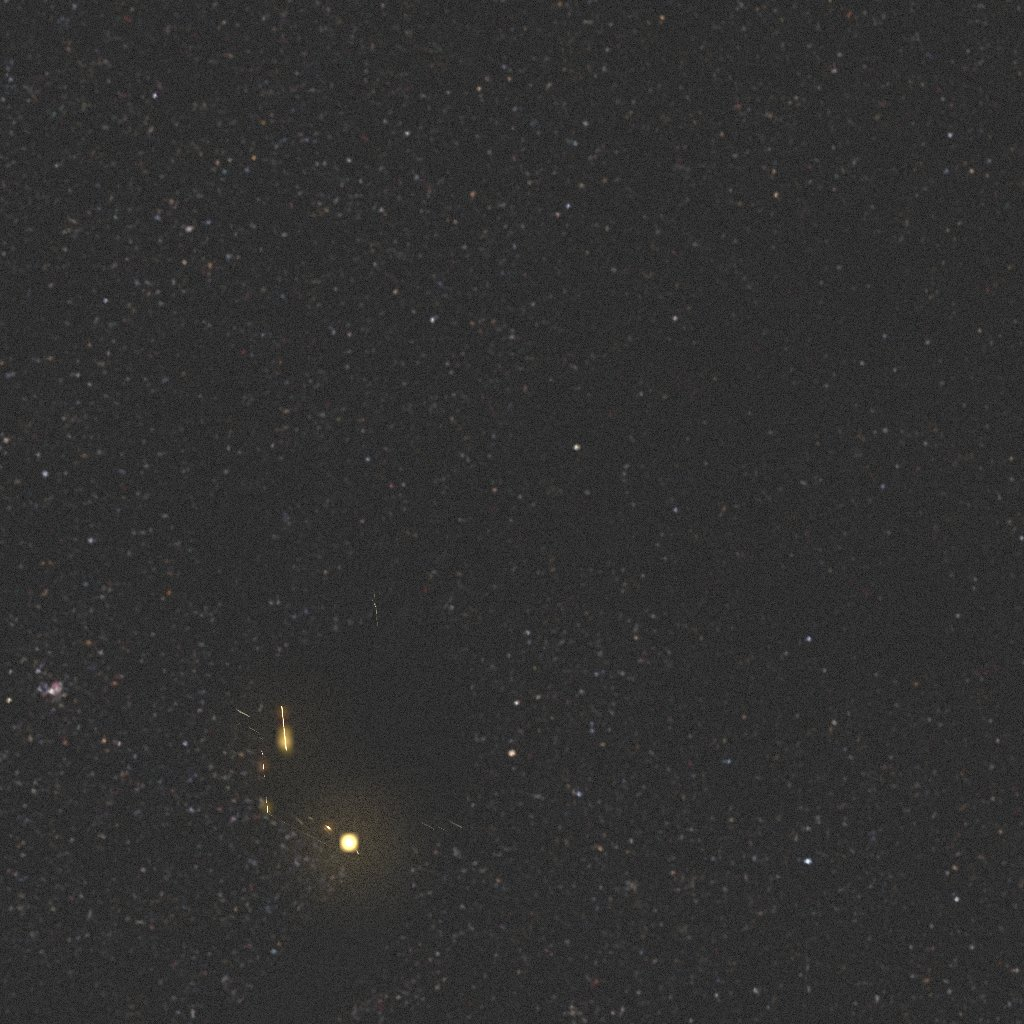earth_observation_sat_1: (259, 585, 496, 971)
